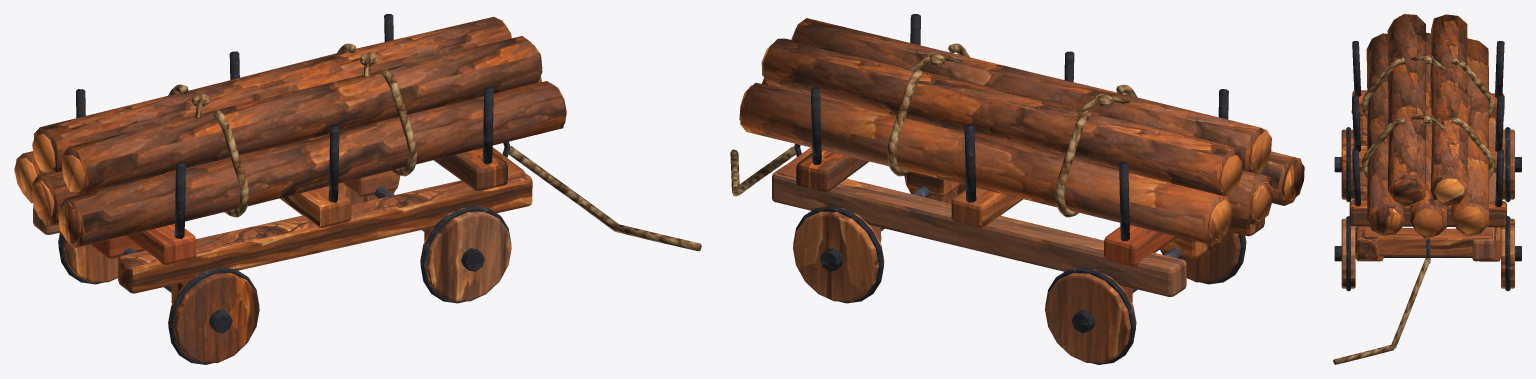
Rendered from mp_prop_trolley.glb.
The picture shows the model from 3 angles, left to right: view 1: azimuth 30°, elevation 25°; view 2: azimuth 150°, elevation 25°; view 3: azimuth 270°, elevation 25°; orthographic projection. The views are drawn at different scales.
Visible parts, largest first — view 1: model; view 2: model; view 3: model.
Boxes of the visible parts, left/top/right/bottom form: model: left=14, top=14, right=701, bottom=364; model: left=730, top=14, right=1304, bottom=364; model: left=1333, top=14, right=1521, bottom=364.
Bounding box in the file's own units: 2.14 × 0.743 × 0.8066.
Materials: 16 (16 with a texture image).
